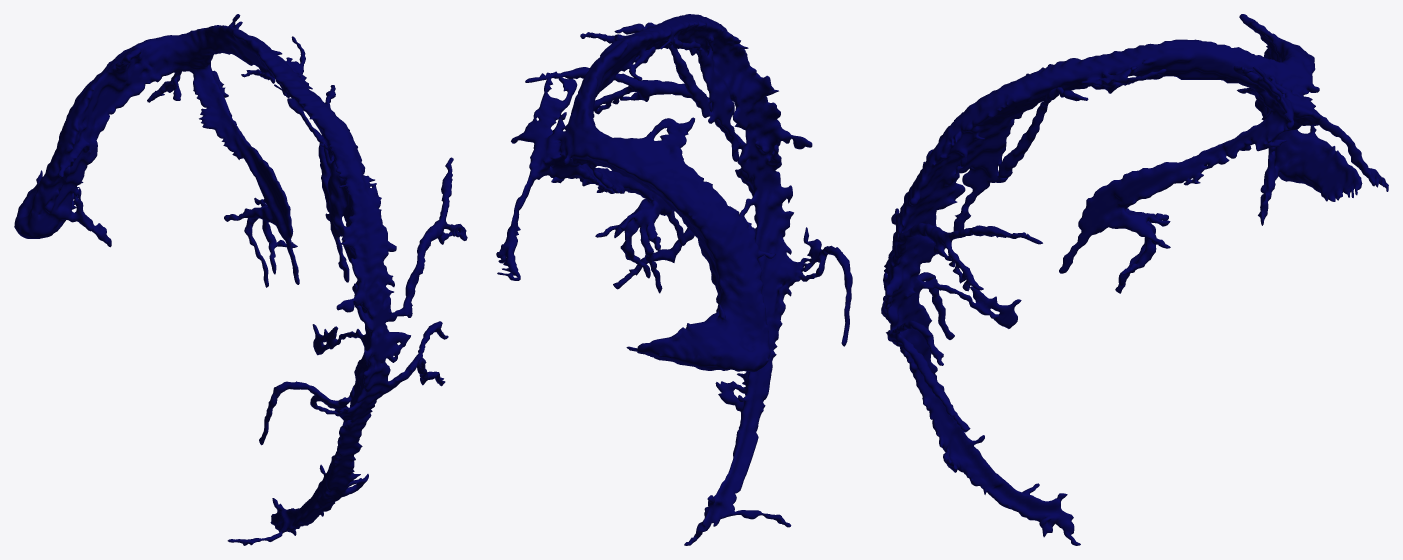
File: Venous_sinus.obj
3 views of the same model, side by side, from view 1: azimuth 30°, elevation 25°; view 2: azimuth 150°, elevation 25°; view 3: azimuth 270°, elevation 25° (orthographic). The views are drawn at different scales.
Parts seen in each view (by area): view 1: grp1; view 2: grp1; view 3: grp1.
Boxes of the visible parts, <box> form: grp1: <box>14,14,467,545</box>; grp1: <box>496,14,852,545</box>; grp1: <box>881,14,1388,545</box>.
Bounding box in the file's own units: 116 × 158 × 143.
